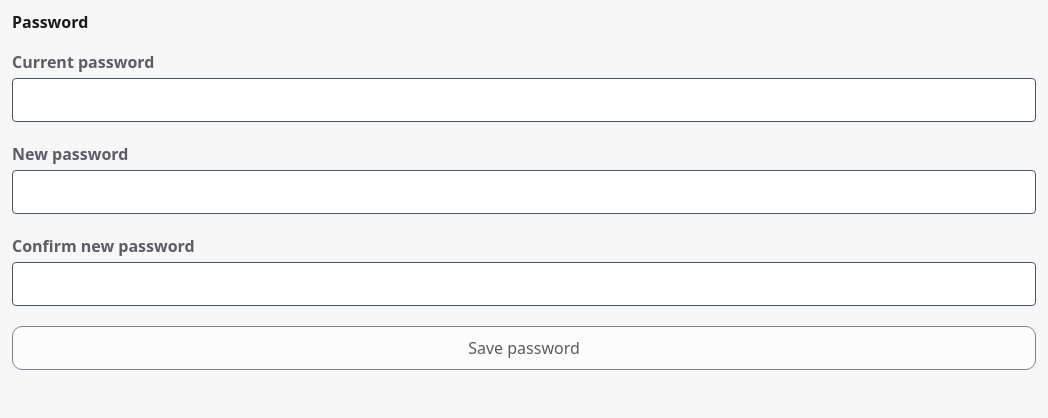
Scenario: AccountPasswordForm — an account with a password › reports success in words, clears every field and adopts the returned profile
Type "OldPassw0rd" into the password field labelled "Current password" at x=524, y=100, box x1=12 y1=78 x2=1036 y2=122
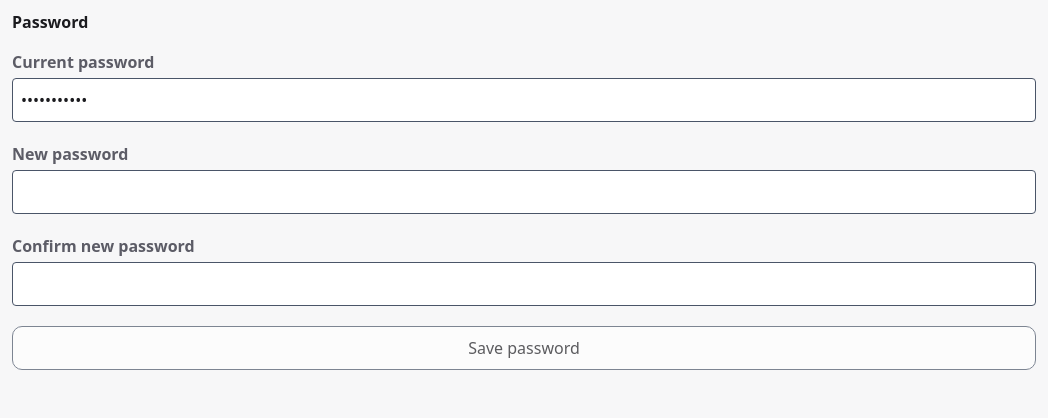
Type "NewPassw0rd" into the password field labelled "New password" at x=524, y=192, box x1=12 y1=170 x2=1036 y2=214
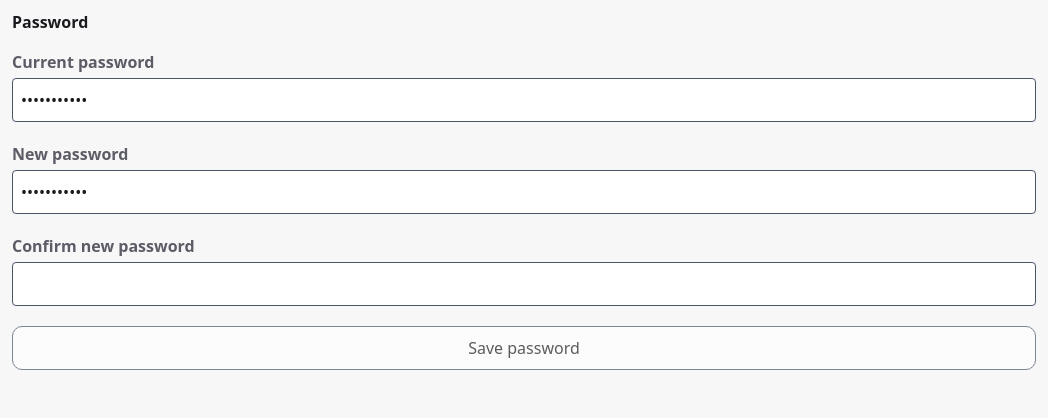
Type "NewPassw0rd" into the password field labelled "Confirm new password" at x=524, y=284, box x1=12 y1=262 x2=1036 y2=306
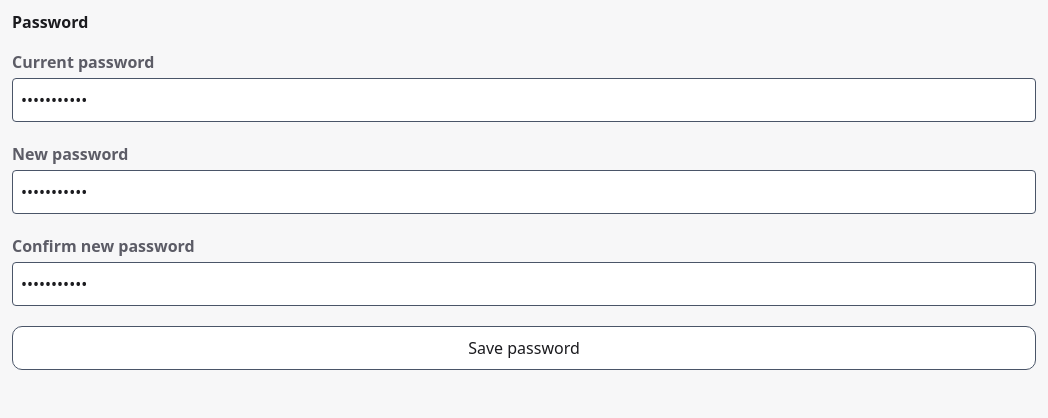
Click the button "Save password" at x=524, y=348, box x1=12 y1=326 x2=1036 y2=370
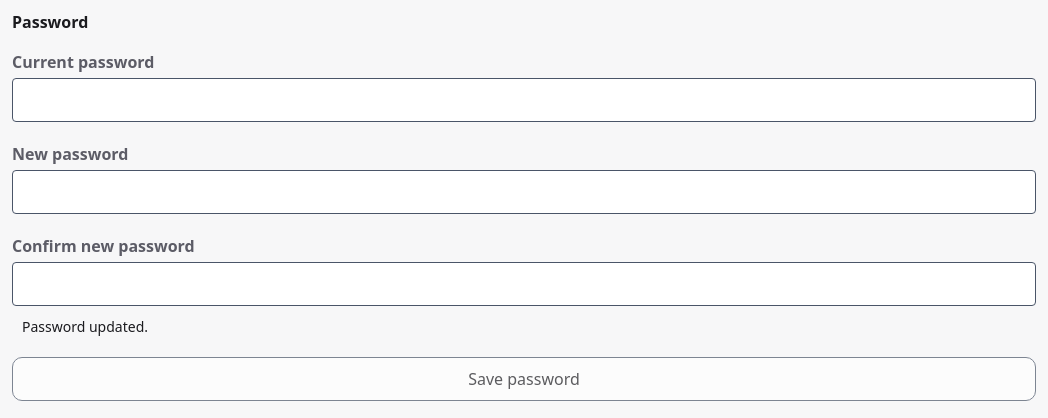
expect the text "Password updated." is shown: met, box x1=22 y1=317 x2=148 y2=336
expect the password field labelled "Current password" is empty: met, box x1=12 y1=78 x2=1036 y2=122
expect the password field labelled "New password" is empty: met, box x1=12 y1=170 x2=1036 y2=214
